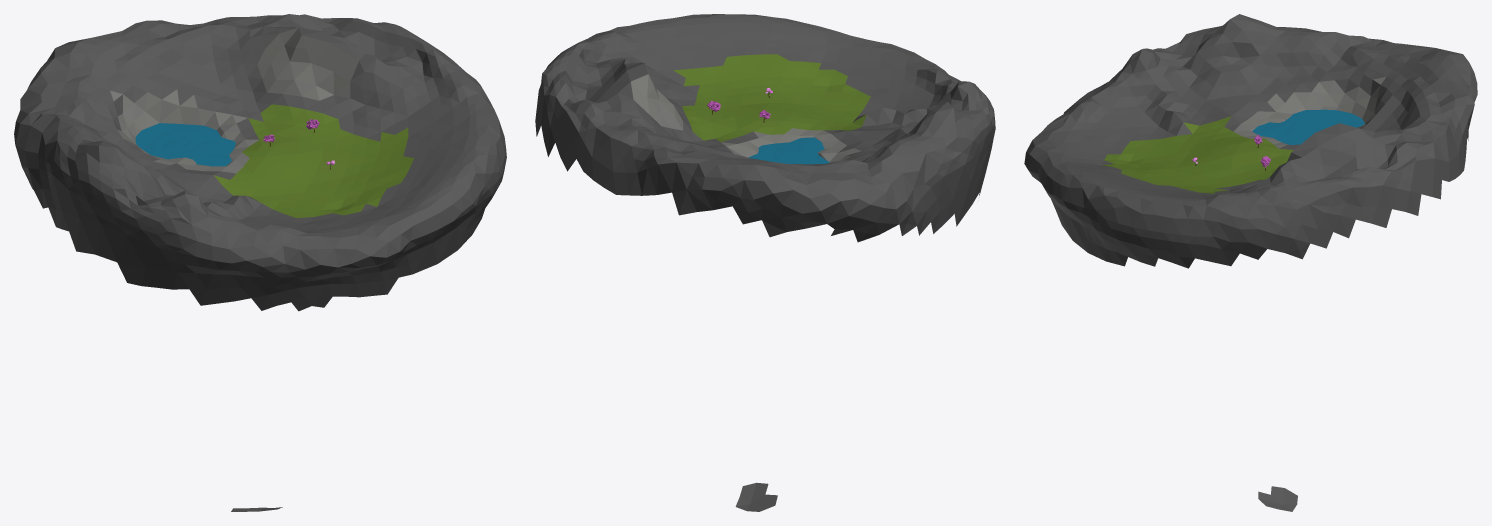
File: environment.obj
3 renders of one model, left to right at view 1: azimuth 30°, elevation 25°; view 2: azimuth 150°, elevation 25°; view 3: azimuth 270°, elevation 25°, orthographic. The views are drawn at different scales.
Parts seen in each view (by area): view 1: Icosphere.003, Sea_Icosphere.004; view 2: Icosphere.003, Sea_Icosphere.004; view 3: Icosphere.003, Sea_Icosphere.004.
Boxes of the visible parts, x1,y1,x2,y2 form: Icosphere.003: (14, 14, 506, 511); Sea_Icosphere.004: (135, 123, 235, 166); Icosphere.003: (535, 14, 995, 511); Sea_Icosphere.004: (748, 137, 829, 164); Icosphere.003: (1024, 14, 1477, 511); Sea_Icosphere.004: (1252, 109, 1364, 144).
Bounding box in the file's own units: 859 × 886 × 870.
Materials: 6 (6 with a texture image).
